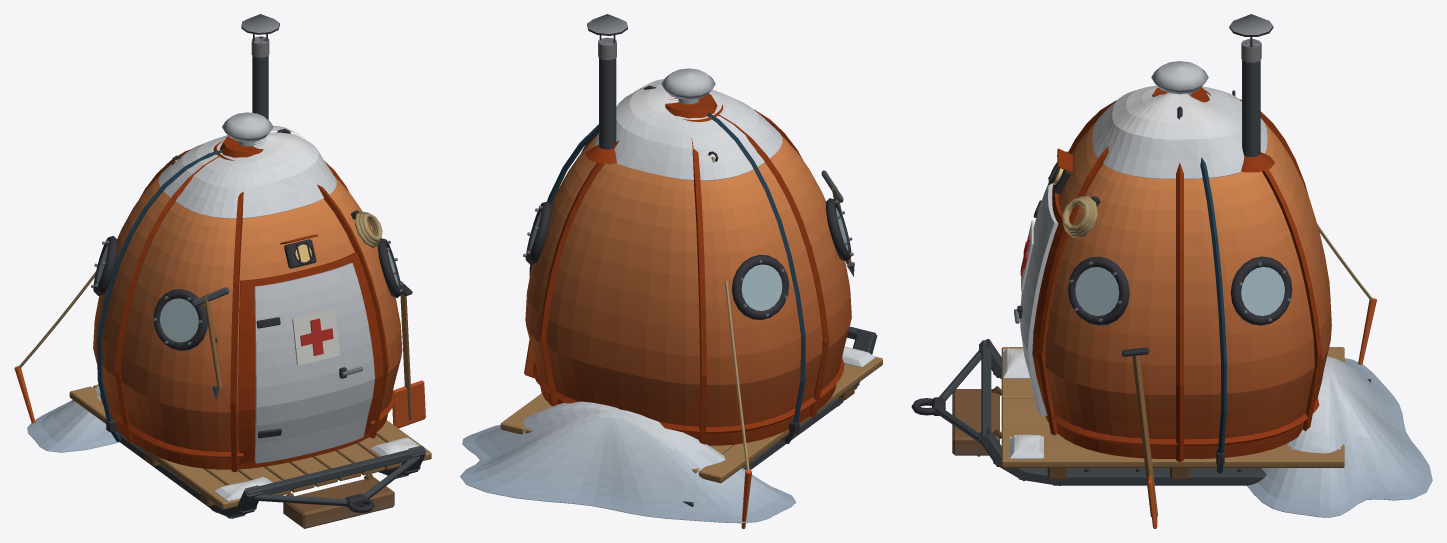
Rendered from refuge-hut.glb.
3 renders of one model, left to right at view 1: azimuth 30°, elevation 25°; view 2: azimuth 150°, elevation 25°; view 3: azimuth 270°, elevation 25°, orthographic. The views are drawn at different scales.
Parts seen in each view (by area): view 1: refuge_hut; view 2: refuge_hut; view 3: refuge_hut.
Boxes of the visible parts, x1=… form: refuge_hut: x1=14, y1=14, x2=431, y2=528; refuge_hut: x1=460, y1=14, x2=882, y2=528; refuge_hut: x1=911, y1=14, x2=1432, y2=528.
Bounding box in the file's own units: 2.42 × 2.96 × 3.07.
